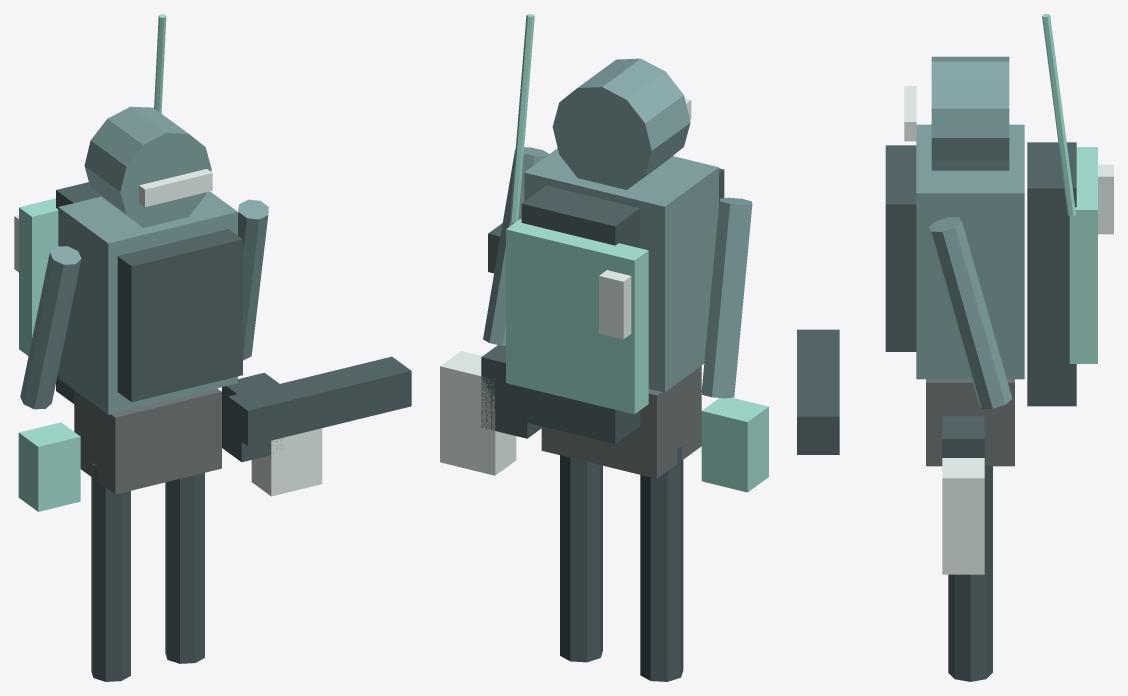
Rendered from tech-operator-v1.glb.
3 renders of one model, left to right at view 1: azimuth 30°, elevation 25°; view 2: azimuth 150°, elevation 25°; view 3: azimuth 270°, elevation 25°, orthographic. The views are drawn at different scales.
Visible parts, largest first — view 1: torso:vest, torso:chest, hips:pelvis, weapon:coil-carbine, head:helmet, leftLeg:boot, rightLeg:boot, leftArm:upper, hipMount:left, backMount:tool-frame, hipMount:blue-tool-case, rightArm:upper (+4 smaller); view 2: backMount:tool-frame, torso:chest, head:helmet, leftLeg:boot, backMount:pack, rightLeg:boot, hips:pelvis, leftArm:upper, hipMount:blue-tool-case, hipMount:left, hipMount:right, rightArm:upper (+2 smaller); view 3: torso:chest, backMount:pack, head:helmet, rightArm:upper, torso:vest, backMount:tool-frame, rightLeg:boot, weapon:coil-carbine, hipMount:blue-tool-case, hips:pelvis, backMount:antenna, hipMount:right (+2 smaller).
Boxes of the visible parts, x1,y1,x2,y2 form: torso:vest: [117, 229, 242, 402]; torso:chest: [58, 191, 237, 414]; hips:pelvis: [74, 388, 221, 494]; weapon:coil-carbine: [228, 356, 411, 445]; head:helmet: [84, 106, 211, 227]; leftLeg:boot: [91, 463, 130, 681]; rightLeg:boot: [165, 473, 204, 663]; leftArm:upper: [20, 246, 81, 409]; hipMount:left: [18, 422, 80, 511]; backMount:tool-frame: [19, 198, 58, 355]; hipMount:blue-tool-case: [251, 428, 322, 496]; rightArm:upper: [238, 199, 268, 360]; backMount:tool-frame: [506, 219, 648, 414]; torso:chest: [524, 148, 718, 392]; head:helmet: [552, 58, 690, 189]; leftLeg:boot: [640, 445, 683, 681]; backMount:pack: [521, 185, 640, 444]; rightLeg:boot: [560, 455, 602, 662]; hips:pelvis: [541, 366, 701, 478]; leftArm:upper: [701, 197, 752, 398]; hipMount:blue-tool-case: [440, 351, 516, 475]; hipMount:left: [701, 397, 768, 492]; hipMount:right: [481, 345, 541, 438]; rightArm:upper: [483, 147, 548, 345]; torso:chest: [916, 124, 1024, 379]; backMount:pack: [1027, 142, 1076, 406]; head:helmet: [931, 56, 1009, 170]; rightArm:upper: [928, 217, 1012, 408]; torso:vest: [885, 145, 916, 351]; backMount:tool-frame: [1069, 147, 1097, 363]; rightLeg:boot: [948, 466, 992, 681]; weapon:coil-carbine: [797, 329, 839, 454]; hipMount:blue-tool-case: [942, 458, 984, 574]; hips:pelvis: [926, 379, 1014, 466]; backMount:antenna: [1042, 14, 1075, 216]; hipMount:right: [942, 416, 984, 457].
Size of the model in its own units: 1.09 by 2.07 by 0.895.
